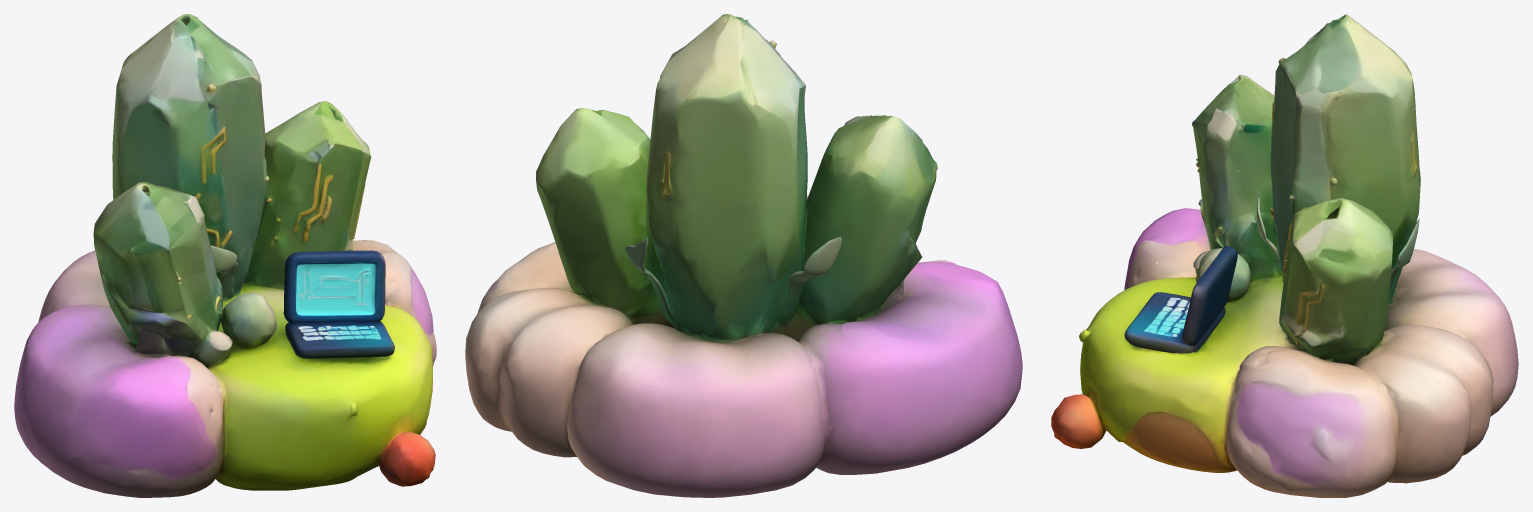
File: programmer.glb
The picture shows the model from 3 angles, left to right: view 1: azimuth 30°, elevation 25°; view 2: azimuth 150°, elevation 25°; view 3: azimuth 270°, elevation 25°; orthographic projection. The views are drawn at different scales.
Parts seen in each view (by area): view 1: tripo_node_a4e5318d-de01-48c6-b771-d190ea829c84; view 2: tripo_node_a4e5318d-de01-48c6-b771-d190ea829c84; view 3: tripo_node_a4e5318d-de01-48c6-b771-d190ea829c84.
Boxes of the visible parts, box(x1,y1,x2,y2) form: tripo_node_a4e5318d-de01-48c6-b771-d190ea829c84: box(14, 14, 436, 497); tripo_node_a4e5318d-de01-48c6-b771-d190ea829c84: box(465, 14, 1022, 497); tripo_node_a4e5318d-de01-48c6-b771-d190ea829c84: box(1051, 14, 1518, 497).
Bounding box in the file's own units: 0.9808 × 0.8596 × 0.9365.
1 material, 1 textured.
